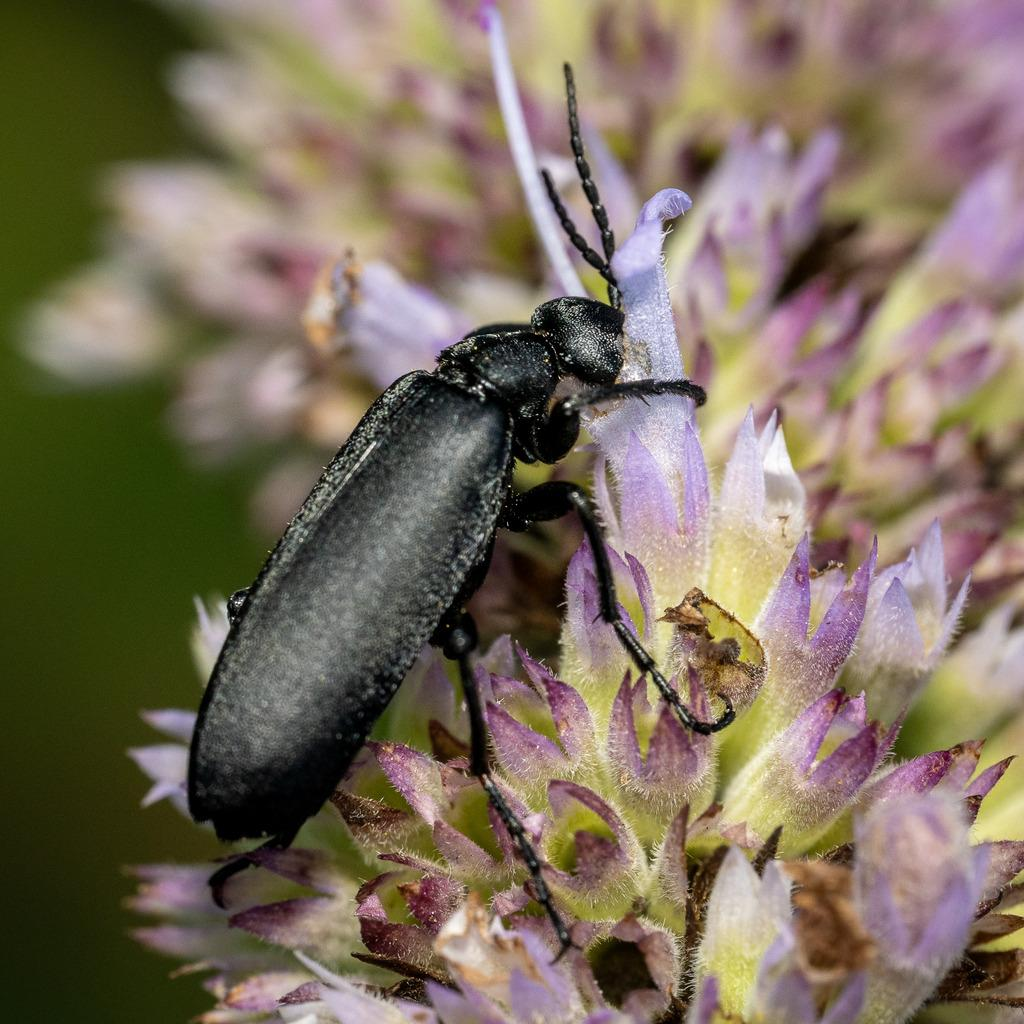blister_beetle: (4, 2, 856, 1024)
